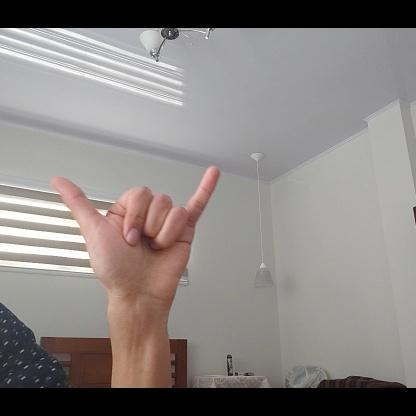Y: (52, 164, 224, 310)
